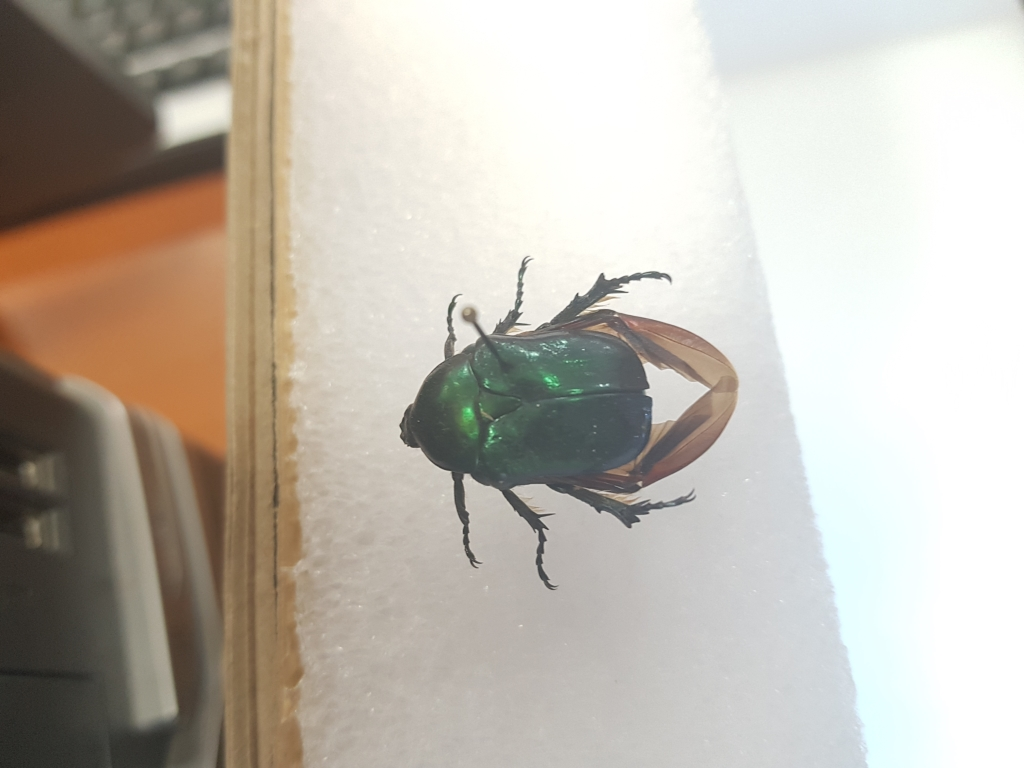Protaetia_angustata_angustata: (400, 248, 759, 591)
